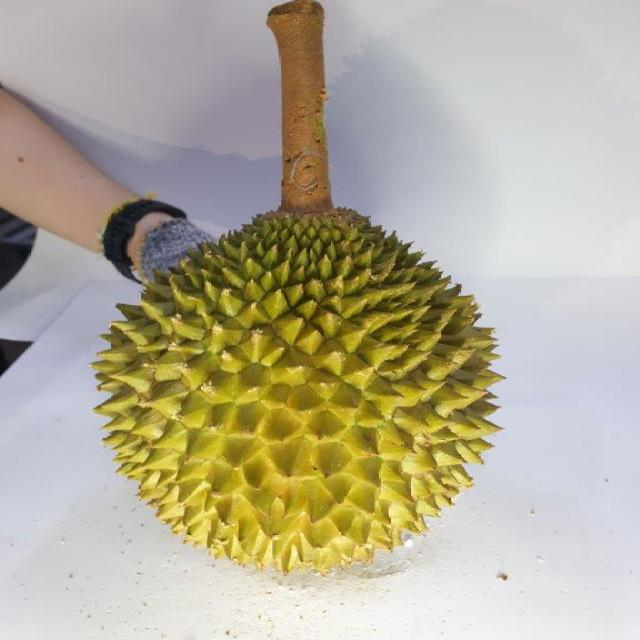immature: (90, 207, 502, 572)
